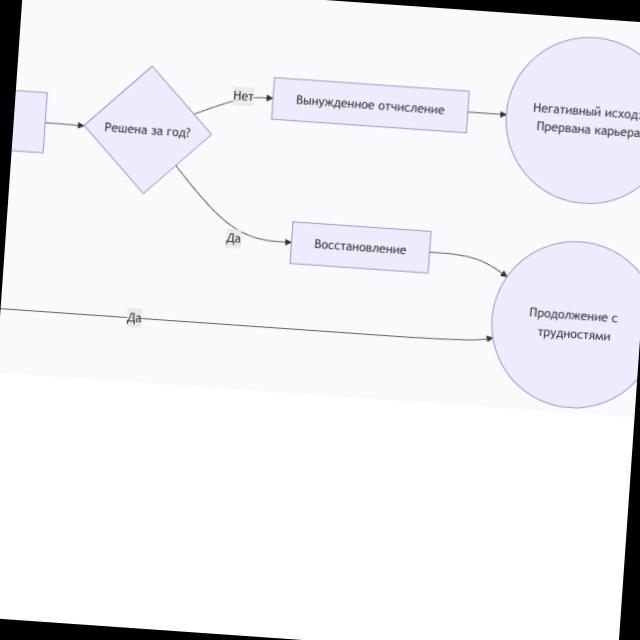arrow: (170, 164, 296, 248), (194, 88, 273, 120), (429, 247, 510, 278), (45, 117, 85, 131), (467, 106, 506, 119)
diamond: (84, 65, 213, 194)
rectangle: (271, 77, 470, 134), (289, 220, 432, 274)
text_region: (232, 89, 254, 104), (125, 309, 142, 327), (224, 230, 242, 246)
